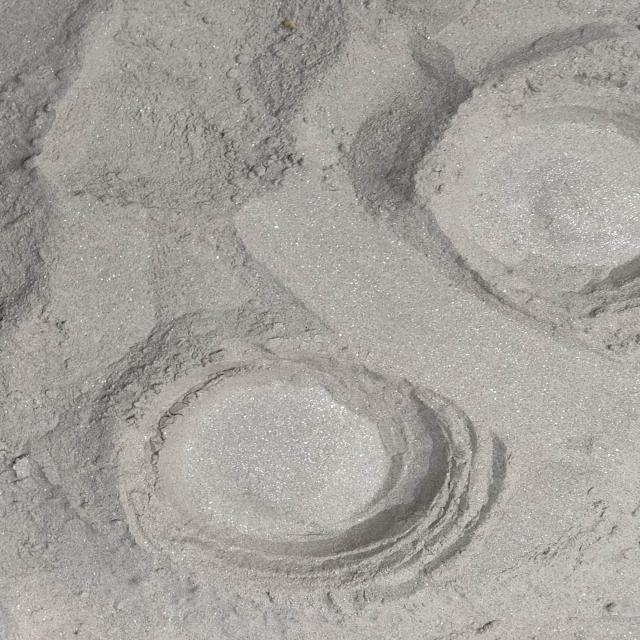C20: (118, 345, 467, 580), (415, 34, 640, 309)
